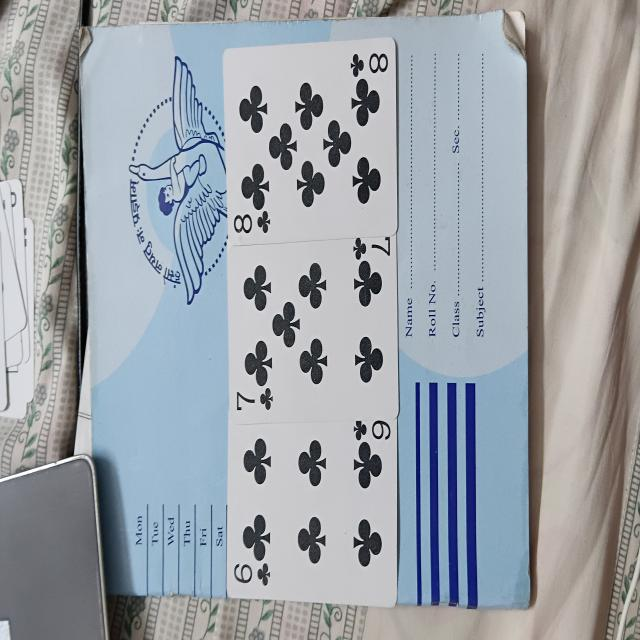6C: (226, 417, 398, 610)
7C: (226, 236, 400, 417)
8C: (227, 48, 397, 238)
